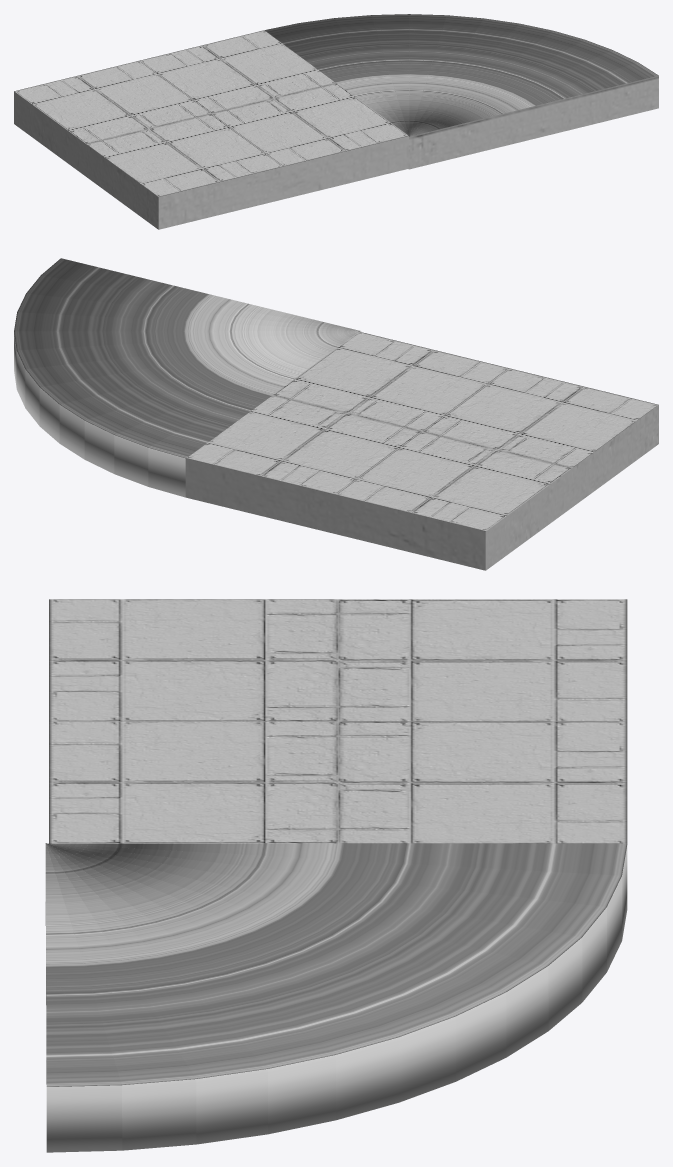
The model's file is Curva.fbx.
The picture shows the model from 3 angles, top to bottom: view 1: azimuth 30°, elevation 25°; view 2: azimuth 150°, elevation 25°; view 3: azimuth 270°, elevation 25°; orthographic projection. The views are drawn at different scales.
Parts seen in each view (by area): view 1: Cube.022; view 2: Cube.022; view 3: Cube.022.
Part boxes in pixels (<box>): Cube.022: <box>14,14,658,229</box>; Cube.022: <box>14,258,658,570</box>; Cube.022: <box>45,599,627,1152</box>.
Size of the model in its own units: 798 by 50.06 by 402.
